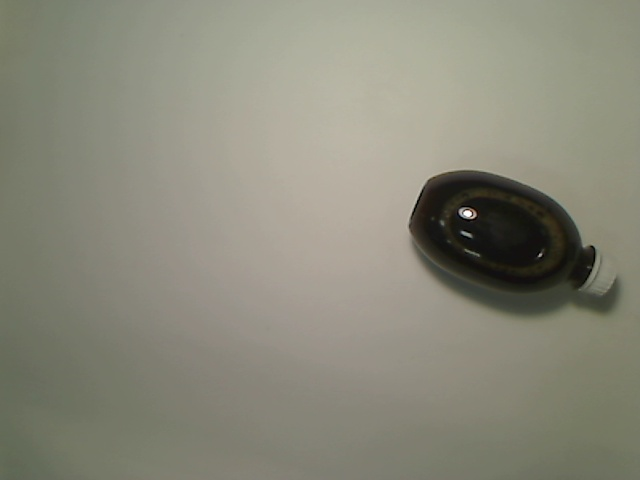plast_bottle: (408, 169, 619, 297)
